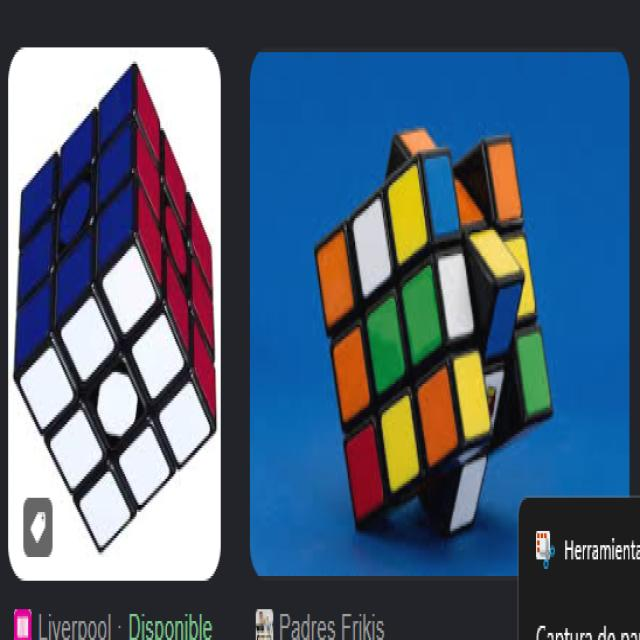Cubo-No-resuelto: (316, 128, 551, 531)
Cubo-Resuelto: (12, 64, 216, 548)
